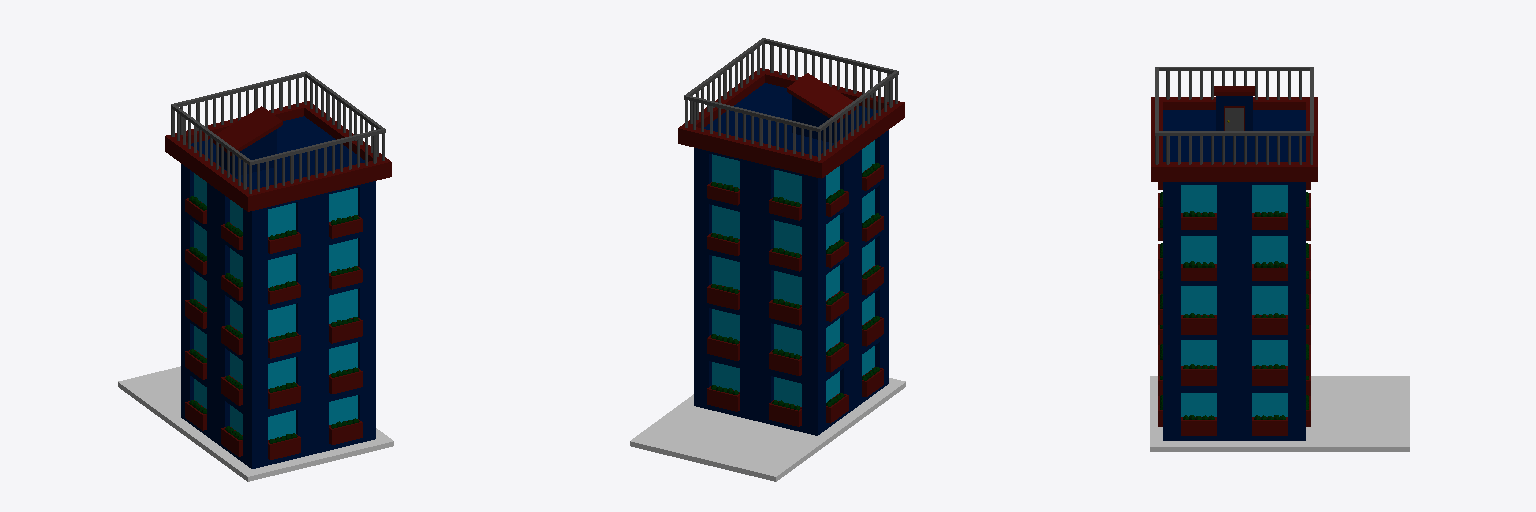
The model's file is building3.obj.
The picture shows the model from 3 angles: view 1: azimuth 30°, elevation 25°; view 2: azimuth 150°, elevation 25°; view 3: azimuth 270°, elevation 25°; orthographic projection.
Bounding box in the file's own units: 3.26 × 6.82 × 5.01.